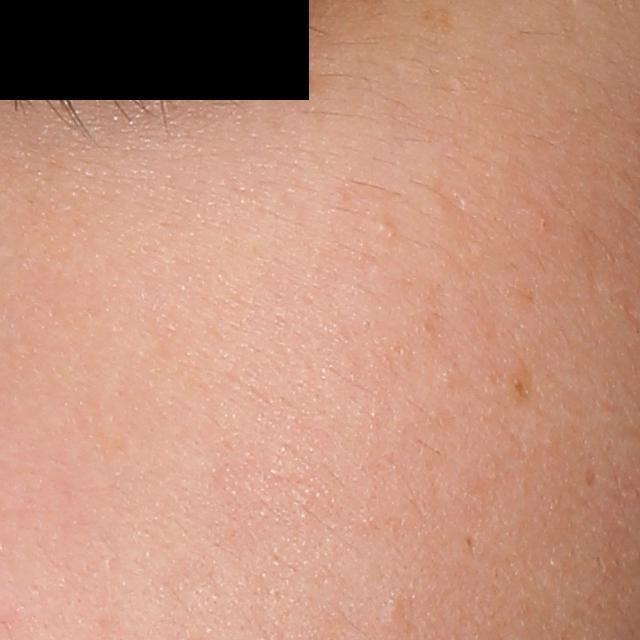comedo: (374, 216, 395, 241)
